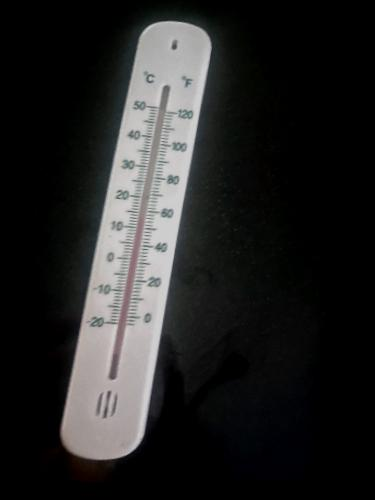thermo: (57, 11, 226, 462)
